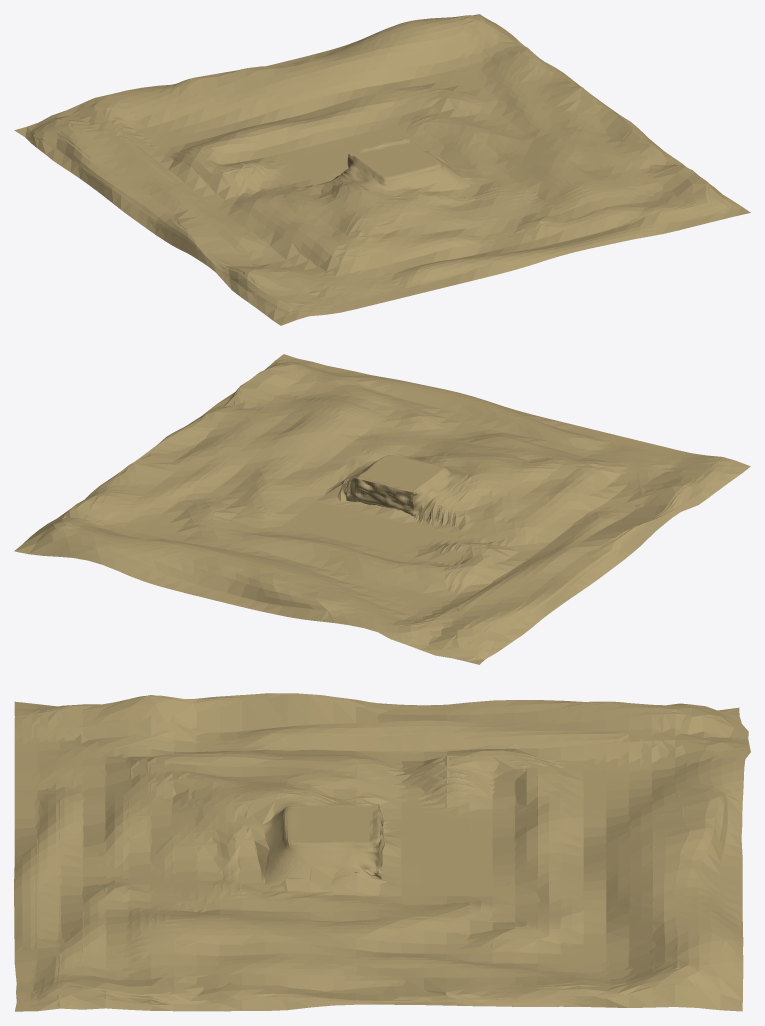
File: terrain.dae
3 renders of one model, top to bottom at view 1: azimuth 30°, elevation 25°; view 2: azimuth 150°, elevation 25°; view 3: azimuth 270°, elevation 25°, orthographic. The views are drawn at different scales.
Visible parts, largest first — view 1: Terreno; view 2: Terreno; view 3: Terreno.
Part boxes in pixels (<box>): Terreno: <box>14,14,750,325</box>; Terreno: <box>14,354,750,664</box>; Terreno: <box>14,693,750,1011</box>.
Size of the model in its own units: 30.01 by 30.37 by 1.75.
